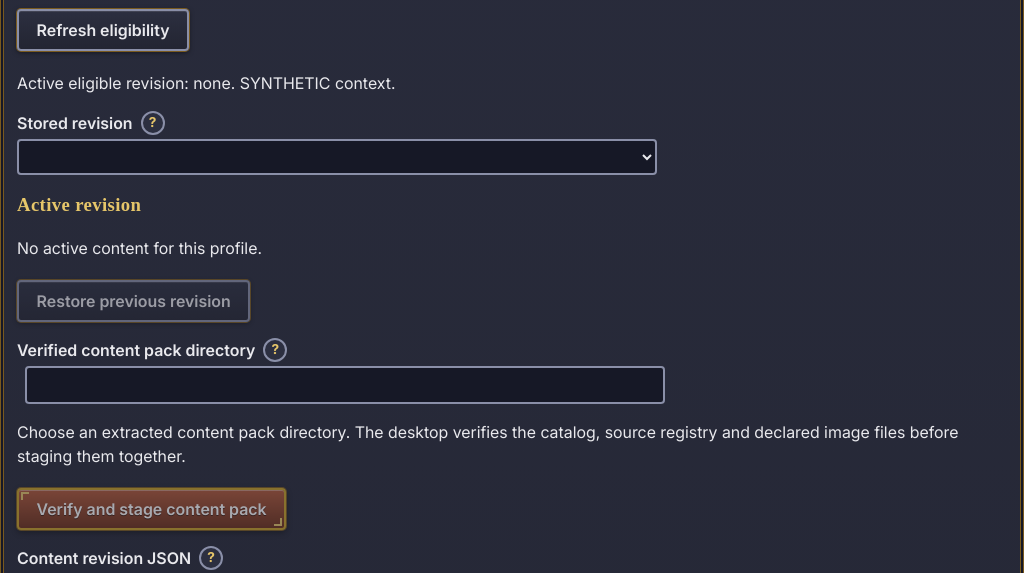
Scenario: verifies a chosen pack directory without activating it
The image size is (1024, 573).
(page scrolled)
Type "C:\\content\\candidate" into the field labelled "Verified content pack directory" at (345, 385), box [25,366,665,404]
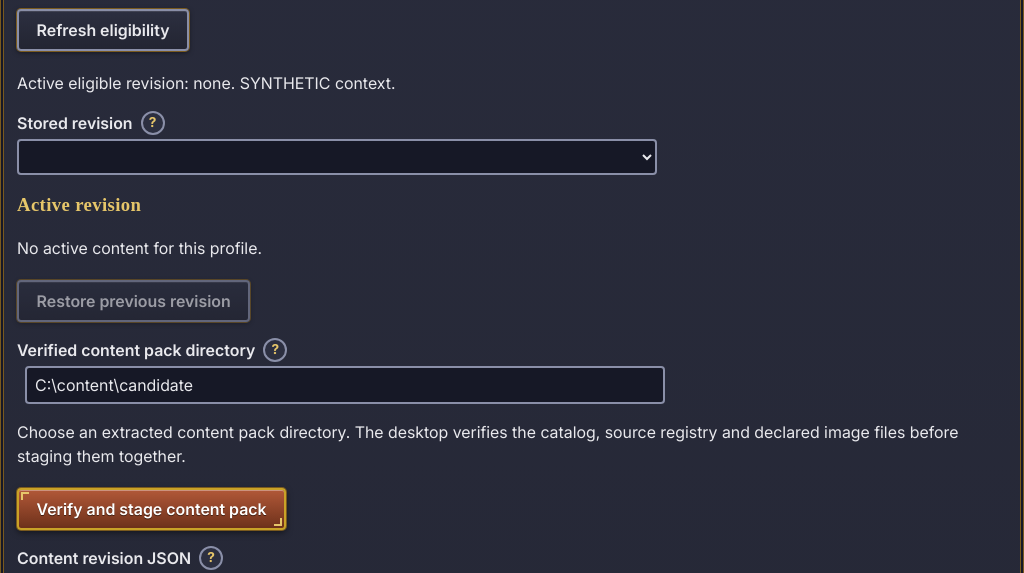
Click the button "Verify and stage content pack" at (152, 509), box [17,488,286,530]
(page scrolled)
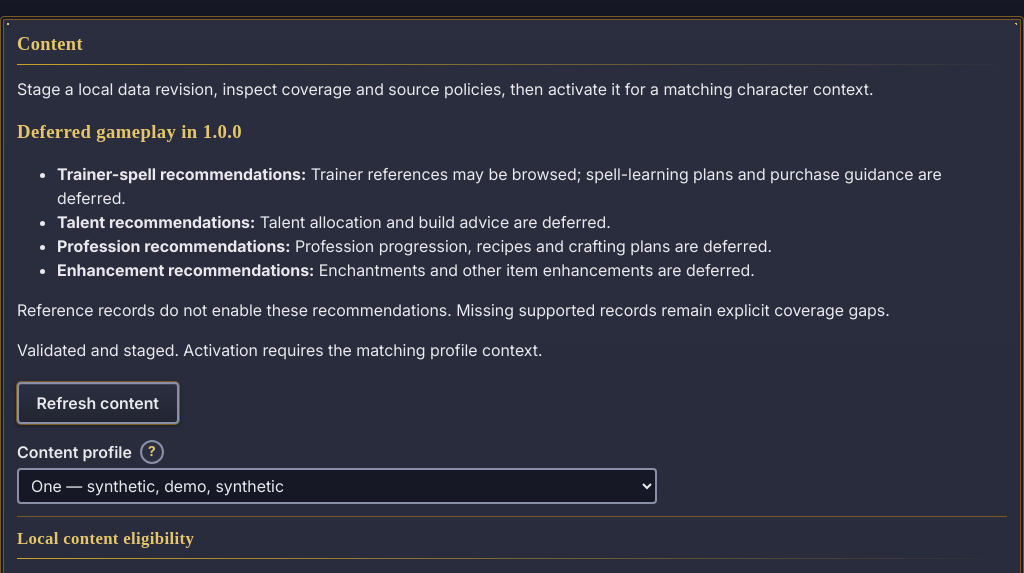
Result: the text "Validated and staged. Activation requires the matching profile context." is shown at [17,340,542,360]
